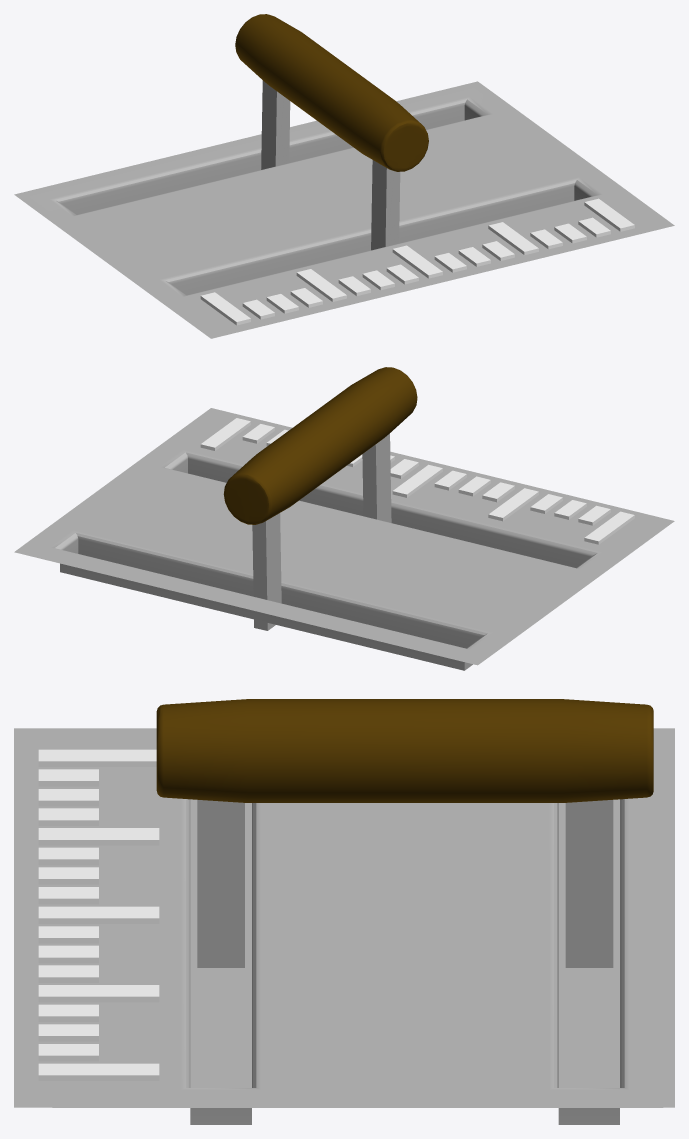
Rendered from Sliders.fbx.
3 views of the same model, one above another, from view 1: azimuth 30°, elevation 25°; view 2: azimuth 150°, elevation 25°; view 3: azimuth 270°, elevation 25° (orthographic). The views are drawn at different scales.
Parts seen in each view (by area): view 1: base, poignee; view 2: base, poignee; view 3: base, poignee.
Boxes of the visible parts, bbox=[...] form: base: bbox=[14, 81, 674, 338]; poignee: bbox=[235, 14, 428, 250]; base: bbox=[14, 408, 674, 670]; poignee: bbox=[223, 367, 417, 630]; base: bbox=[14, 728, 674, 1124]; poignee: bbox=[156, 699, 653, 967].
Size of the model in its own units: 16.26 by 5.56 by 11.97.
